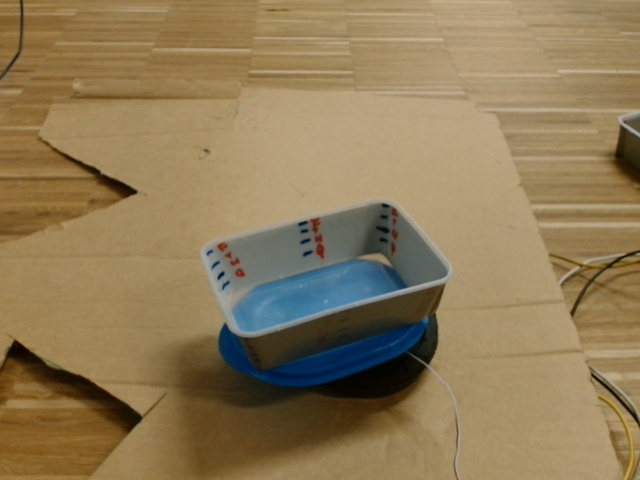Small_zero: (199, 200, 454, 339)
